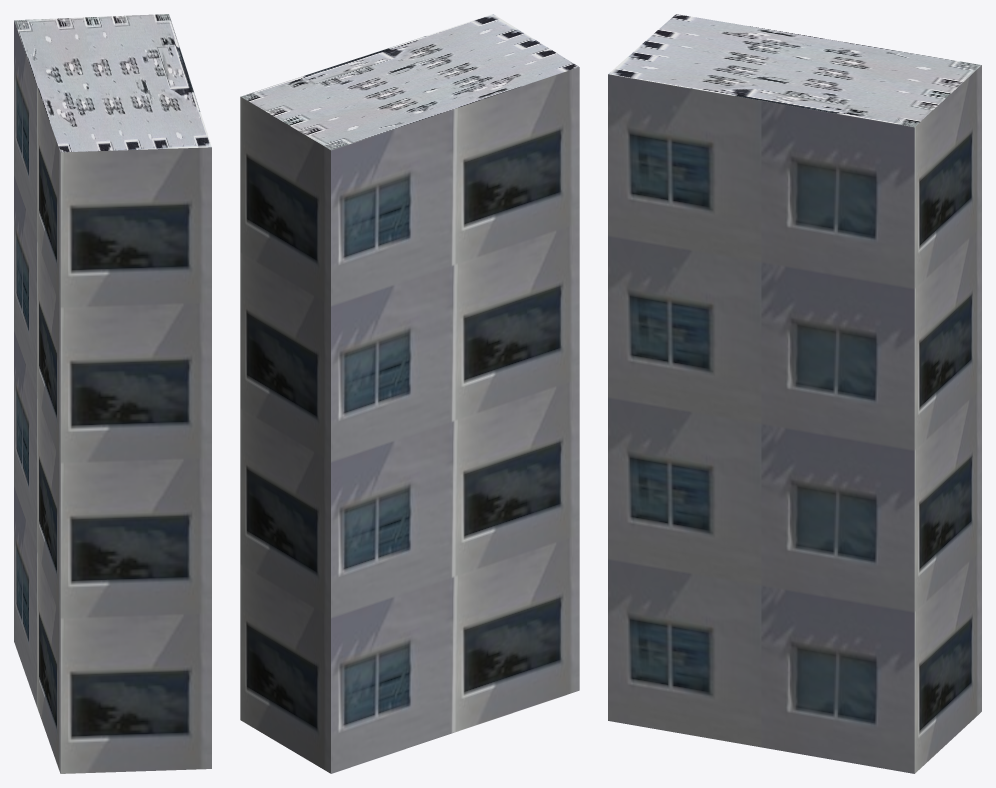
The model's file is ResTex__2594.fbx.
3 views of the same model, side by side, from view 1: azimuth 30°, elevation 25°; view 2: azimuth 150°, elevation 25°; view 3: azimuth 270°, elevation 25° (orthographic). The views are drawn at different scales.
Parts seen in each view (by area): view 1: CityEngineMaterial_10_m, CityEngineMaterial_8_m; view 2: CityEngineMaterial_10_m, CityEngineMaterial_8_m; view 3: CityEngineMaterial_10_m, CityEngineMaterial_8_m.
Part boxes in pixels (x1=…): CityEngineMaterial_10_m: x1=14, y1=20, x2=211, y2=773; CityEngineMaterial_8_m: x1=14, y1=14, x2=211, y2=152; CityEngineMaterial_10_m: x1=240, y1=67, x2=579, y2=773; CityEngineMaterial_8_m: x1=241, y1=14, x2=578, y2=150; CityEngineMaterial_10_m: x1=608, y1=65, x2=981, y2=773; CityEngineMaterial_8_m: x1=608, y1=14, x2=981, y2=127.
Size of the model in its own units: 4.51 by 12 by 6.29.
2 materials, 2 textured.
